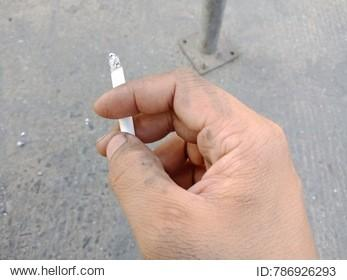Cigarette: (109, 53, 136, 137)
